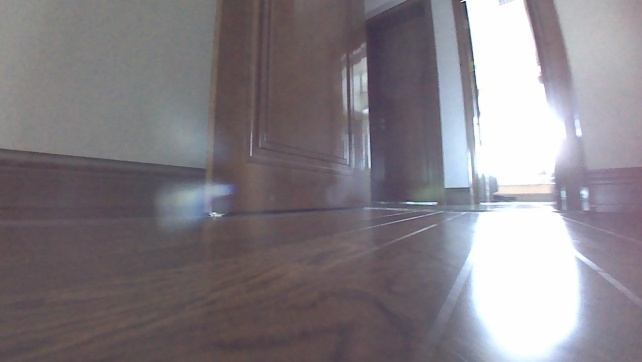door_anno: (204, 0, 376, 220)
